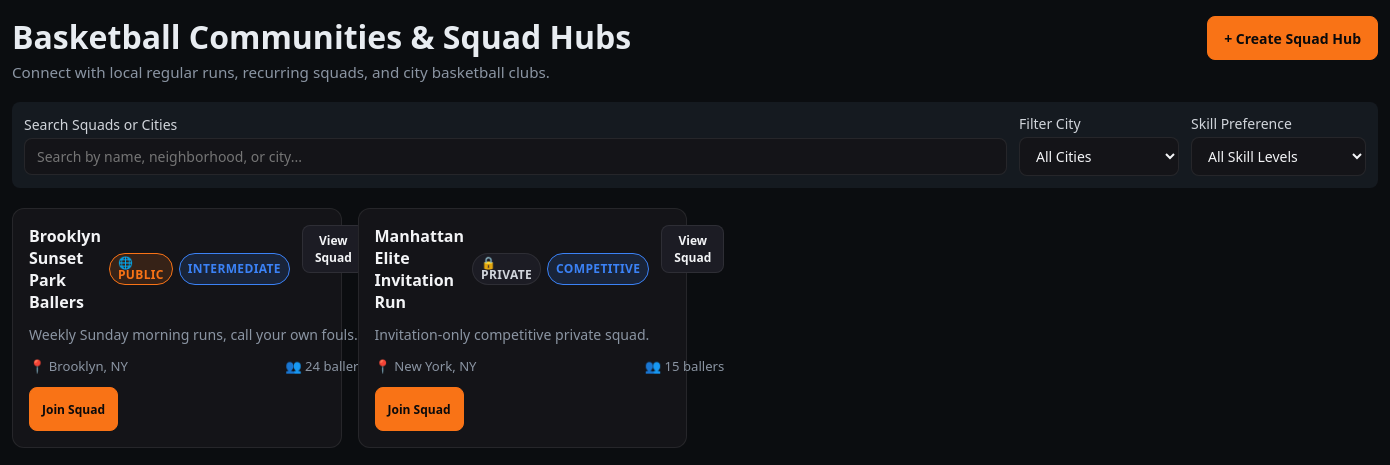
Test: CommunitiesView Component (WP-5.2) › filters squads by city and search term
Expected: the heading "Brooklyn Sunset Park Ballers" is shown, [29,225,101,313]
In the field with placeholder "Search by name, neighborhood, or city...": (516,157) [24,138,1007,175], type "Sunset"
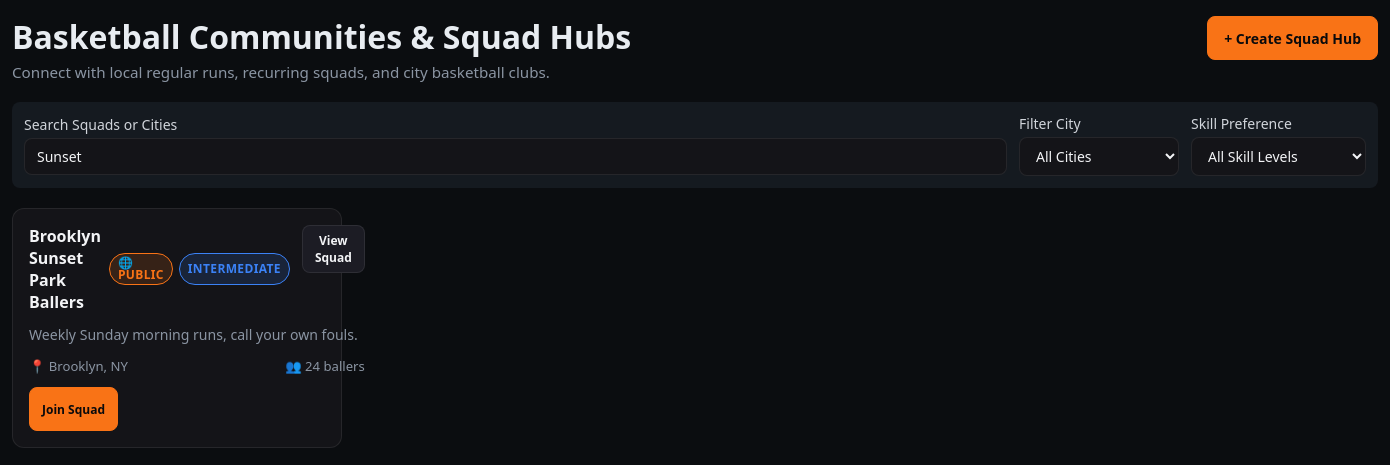
Expected: the heading "Brooklyn Sunset Park Ballers" is shown, [29,225,101,313]
Now the heading "Manhattan Elite Invitation Run" is gone
